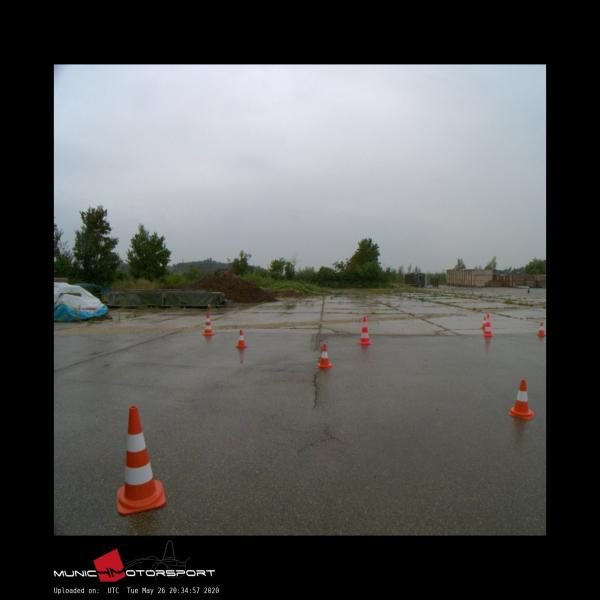large_orange_cone: (117, 406, 165, 513), (358, 316, 372, 344), (201, 313, 214, 334), (483, 314, 492, 336)
orange_cone: (508, 380, 534, 418), (316, 344, 332, 368), (236, 329, 246, 347), (537, 321, 545, 336), (482, 316, 488, 327)
